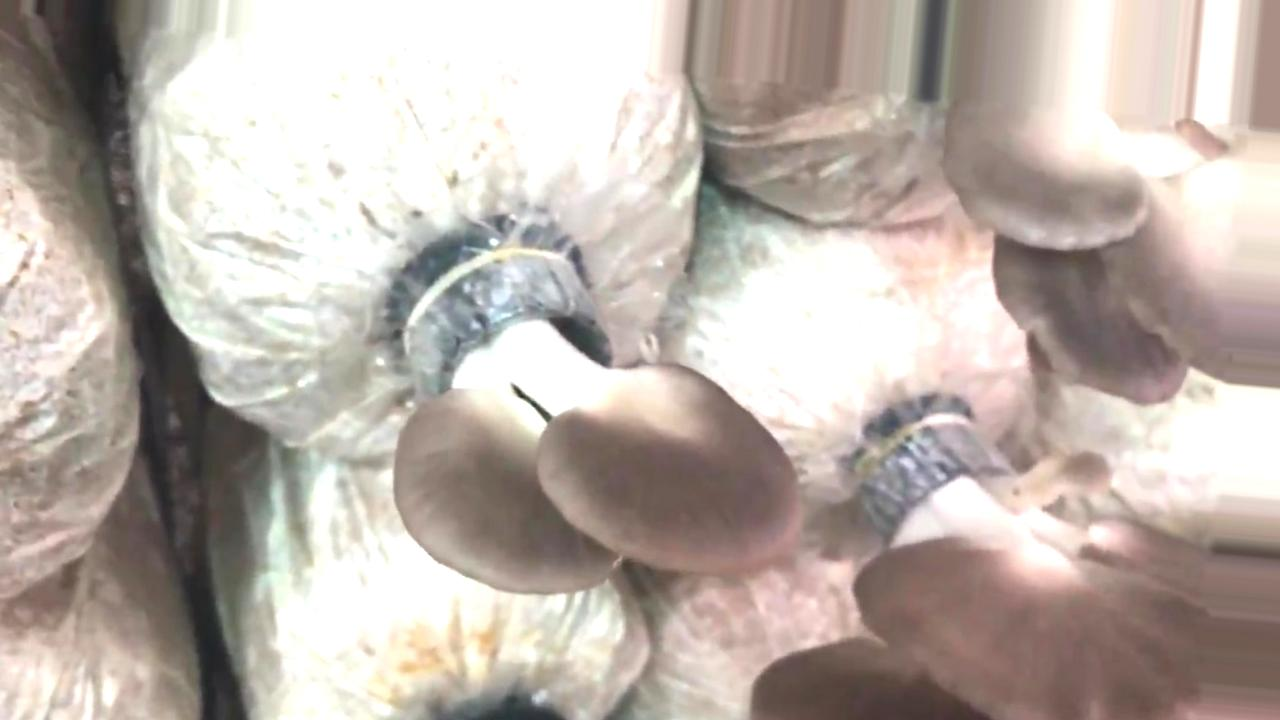nam: (756, 425, 1280, 719), (395, 249, 805, 595), (942, 123, 1280, 406)
